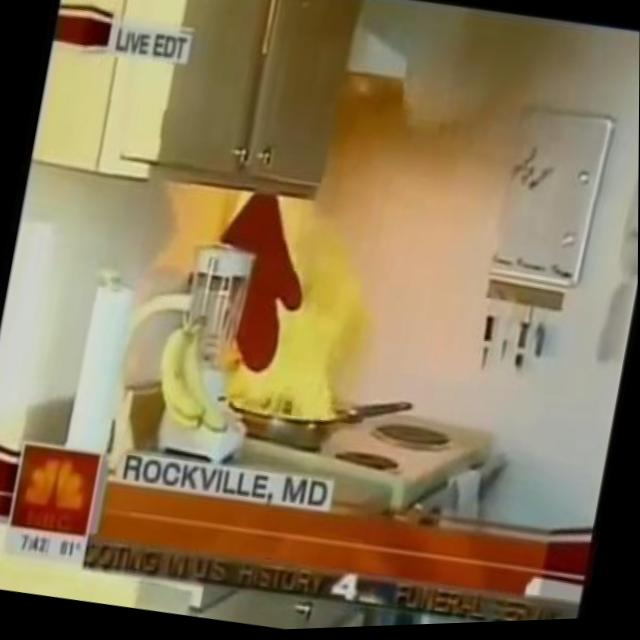fire: (225, 195, 379, 429)
